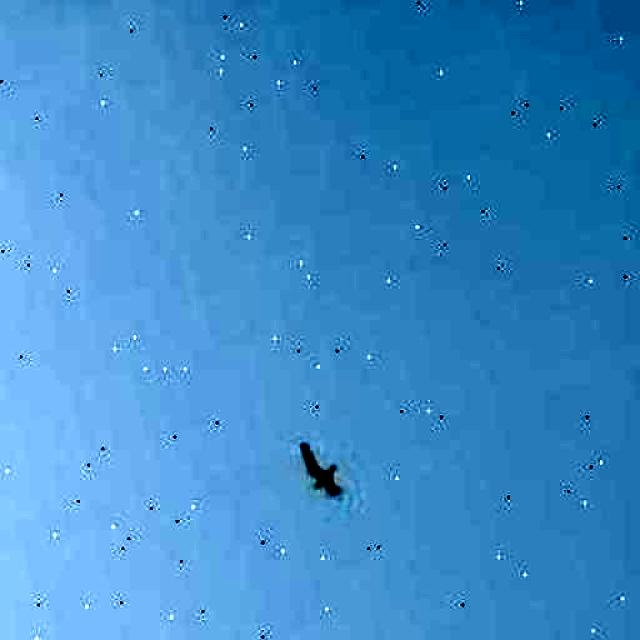airplane: (295, 434, 348, 504)
